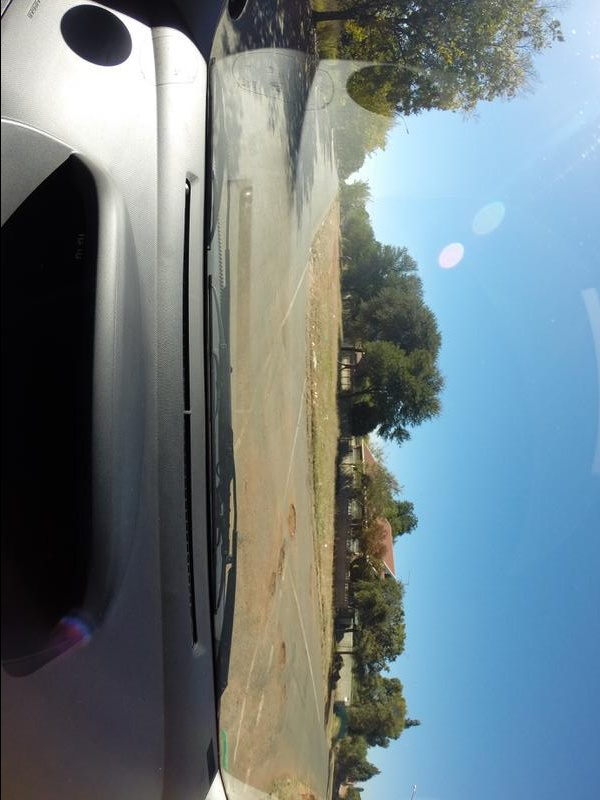pothole: (275, 640, 289, 676), (286, 502, 299, 538), (272, 547, 289, 574), (272, 684, 289, 709), (264, 573, 280, 596)
